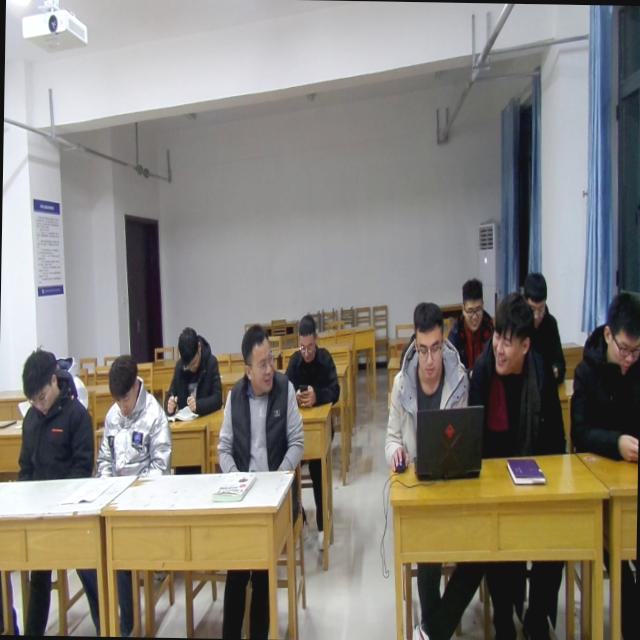down: (407, 298, 446, 386), (602, 284, 640, 374), (20, 344, 60, 422), (105, 350, 144, 426), (520, 264, 550, 326), (458, 274, 488, 332), (173, 322, 201, 374), (294, 310, 318, 368)
sit: (465, 290, 570, 462), (384, 299, 471, 478), (215, 324, 308, 476), (282, 312, 340, 550), (567, 291, 640, 461), (14, 344, 96, 486), (92, 354, 174, 482), (443, 276, 496, 401), (512, 272, 568, 382), (162, 325, 225, 416)
